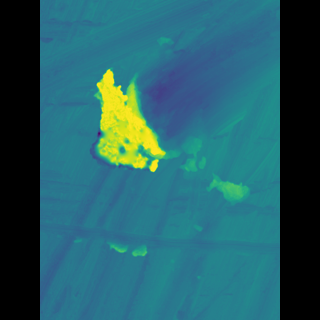Loch: (101, 59, 174, 182), (69, 219, 250, 256)
